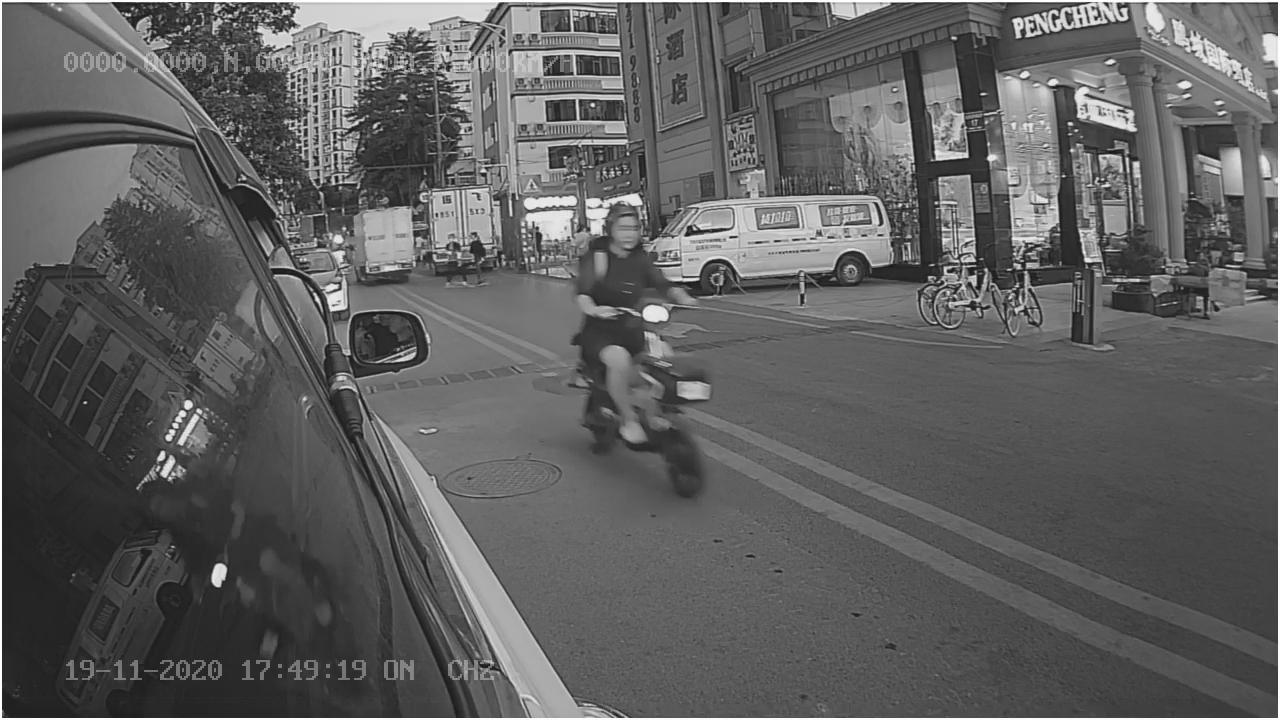person: (570, 203, 655, 321)
